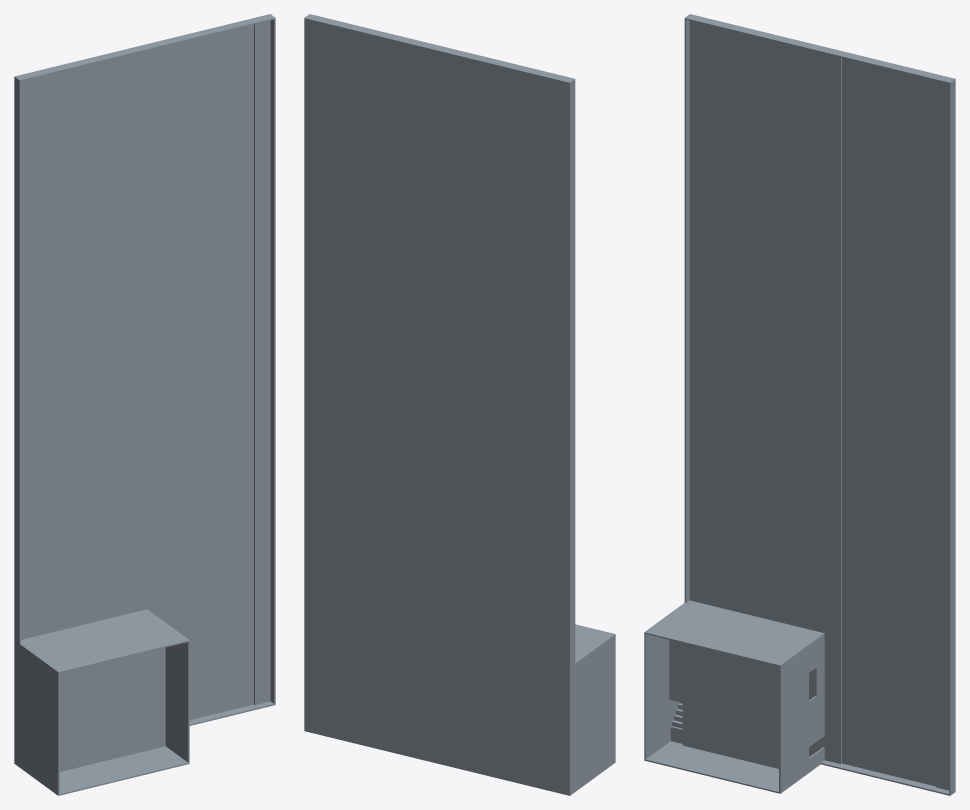
The model's file is CityStreet.dae.
3 renders of one model, left to right at view 1: azimuth 30°, elevation 25°; view 2: azimuth 150°, elevation 25°; view 3: azimuth 330°, elevation 25°, orthographic. The views are drawn at different scales.
Bounding box in the file's own units: 19.5 × 50 × 5.82.
